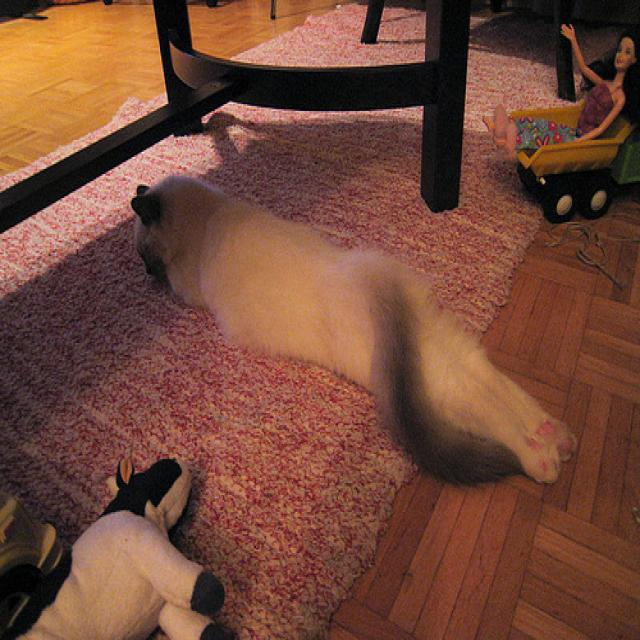cat: (126, 177, 581, 489)
